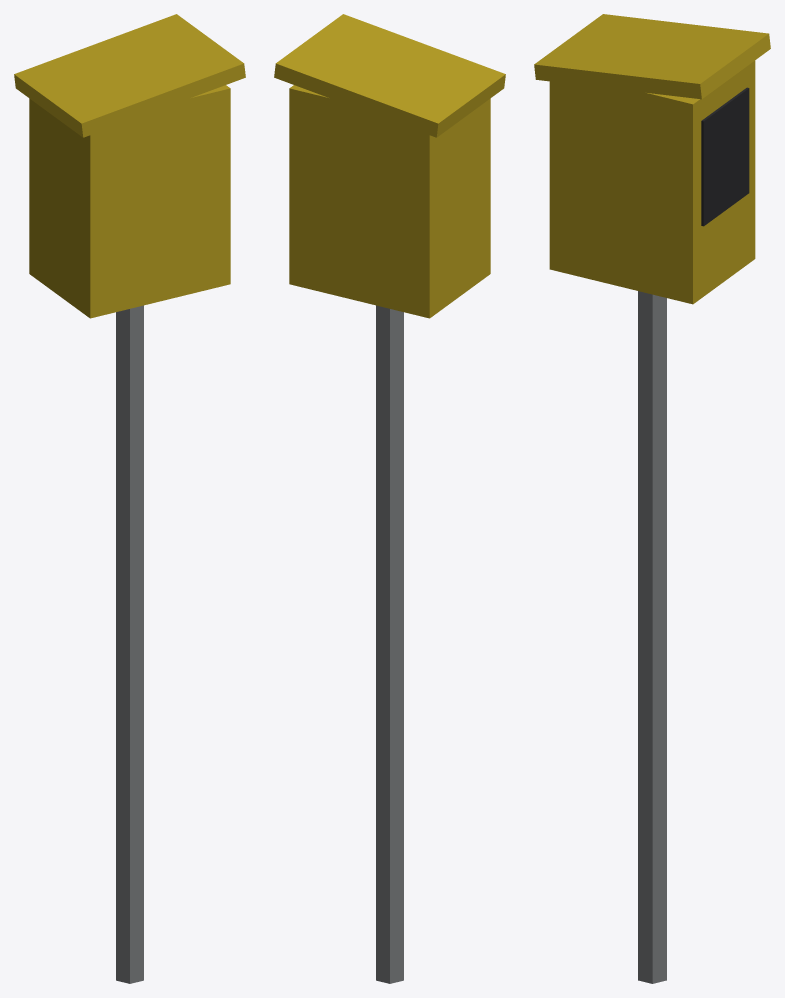
File: SM_Prop_fast_camera_0_LOD1.glb
3 views of the same model, side by side, from view 1: azimuth 30°, elevation 25°; view 2: azimuth 150°, elevation 25°; view 3: azimuth 330°, elevation 25° (orthographic). The views are drawn at different scales.
Visible parts, largest first — view 1: SM_Prop_fast_camera_0_LOD1; view 2: SM_Prop_fast_camera_0_LOD1; view 3: SM_Prop_fast_camera_0_LOD1.
Boxes of the visible parts, x1=… form: SM_Prop_fast_camera_0_LOD1: x1=14, y1=14, x2=245, y2=983; SM_Prop_fast_camera_0_LOD1: x1=274, y1=14, x2=505, y2=983; SM_Prop_fast_camera_0_LOD1: x1=534, y1=14, x2=770, y2=983.
Bounding box in the file's own units: 0.7021 × 3.75 × 0.5.
